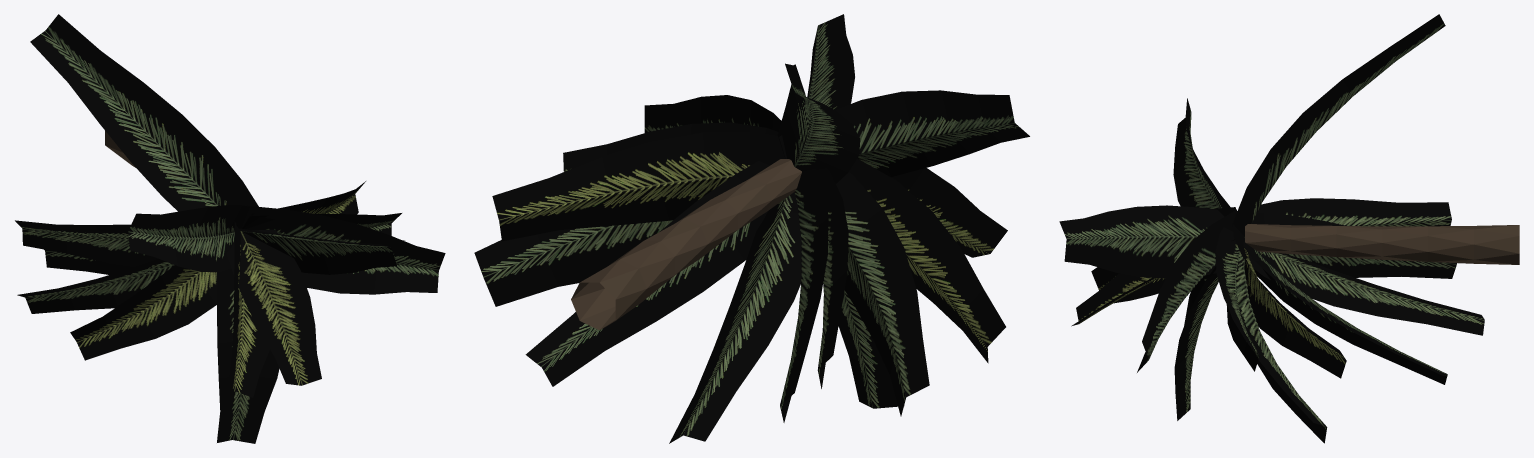
File: SM_Plant_DatePalm_C.obj
3 views of the same model, side by side, from view 1: azimuth 30°, elevation 25°; view 2: azimuth 150°, elevation 25°; view 3: azimuth 270°, elevation 25° (orthographic). The views are drawn at different scales.
Parts seen in each view (by area): view 1: SM_Plant_DatePalm_C; view 2: SM_Plant_DatePalm_C; view 3: SM_Plant_DatePalm_C.
Boxes of the visible parts, left/top/right/bottom form: SM_Plant_DatePalm_C: left=15, top=14, right=445, bottom=443; SM_Plant_DatePalm_C: left=474, top=14, right=1029, bottom=443; SM_Plant_DatePalm_C: left=1059, top=14, right=1519, bottom=443.
Size of the model in its own units: 508 by 477 by 536.
Materials: 2 (1 with a texture image).
